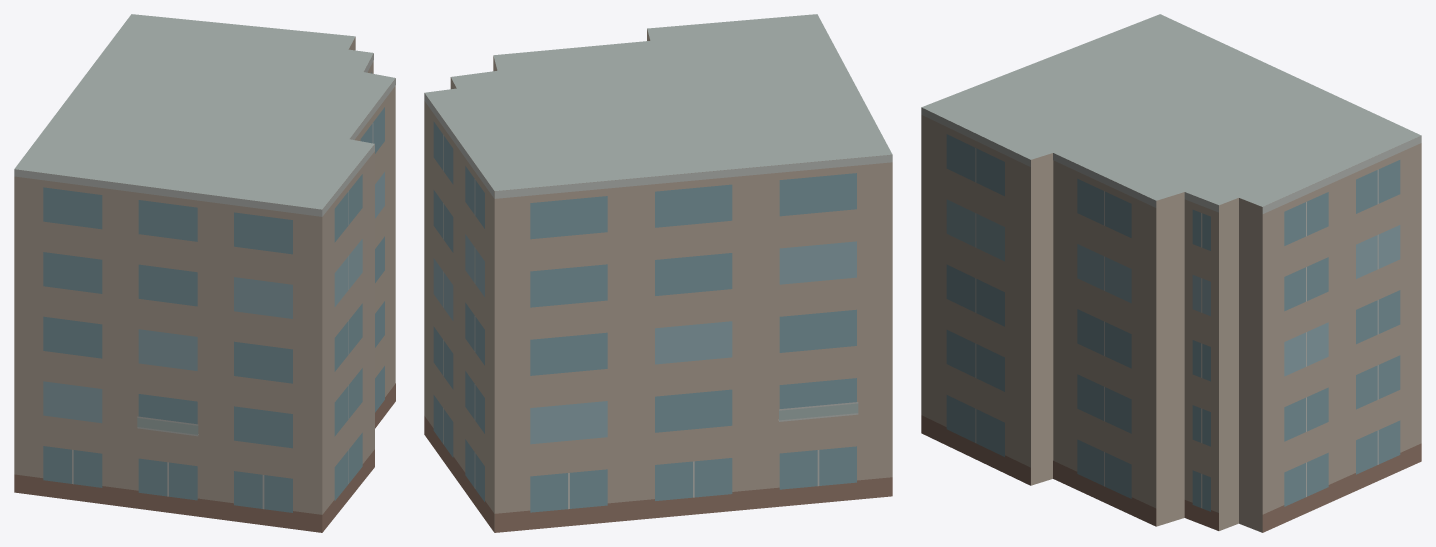
File: survey-upis-32949964.glb
The picture shows the model from 3 angles, left to right: view 1: azimuth 30°, elevation 25°; view 2: azimuth 150°, elevation 25°; view 3: azimuth 270°, elevation 25°; orthographic projection. The views are drawn at different scales.
Visible parts, largest first — view 1: survey-upis-32949964.tmp; view 2: survey-upis-32949964.tmp; view 3: survey-upis-32949964.tmp.
Part boxes in pixels (left/top/right/bottom): survey-upis-32949964.tmp: left=14, top=14, right=395, bottom=532; survey-upis-32949964.tmp: left=424, top=14, right=892, bottom=532; survey-upis-32949964.tmp: left=921, top=14, right=1421, bottom=532.
Size of the model in its own units: 13.72 by 10.8 by 15.03.
